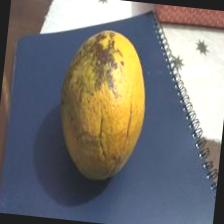Orange Rotten: (44, 18, 166, 194)
